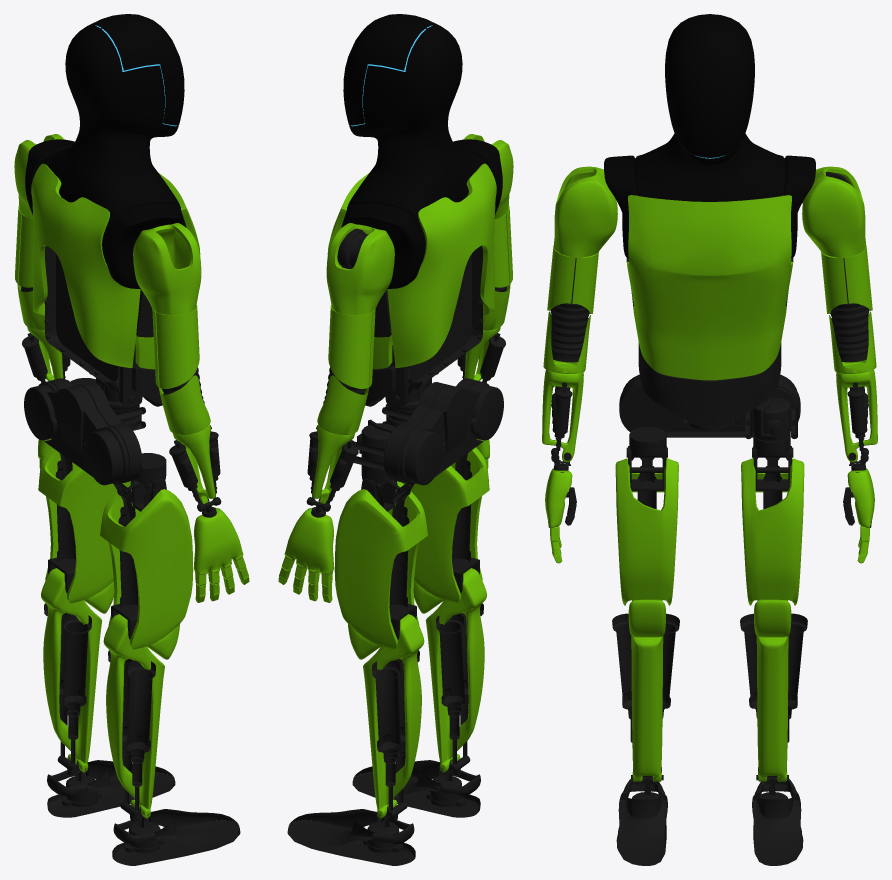
The model's file is intel.glb.
3 views of the same model, side by side, from view 1: azimuth 30°, elevation 25°; view 2: azimuth 150°, elevation 25°; view 3: azimuth 270°, elevation 25° (orthographic).
Parts seen in each view (by area): view 1: Cube.001; view 2: Cube.001; view 3: Cube.001.
Boxes of the visible parts, x1,y1,x2,y2 form: Cube.001: (14, 14, 249, 865); Cube.001: (278, 14, 513, 865); Cube.001: (542, 14, 877, 865).
Size of the model in its own units: 0.3406 by 1.7 by 0.6396.
